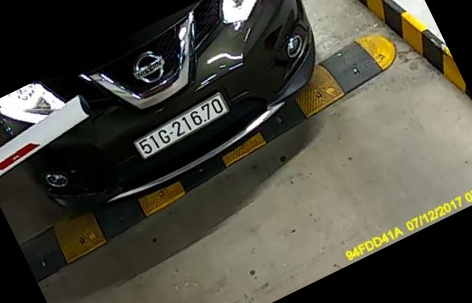plate: (135, 88, 233, 164)
